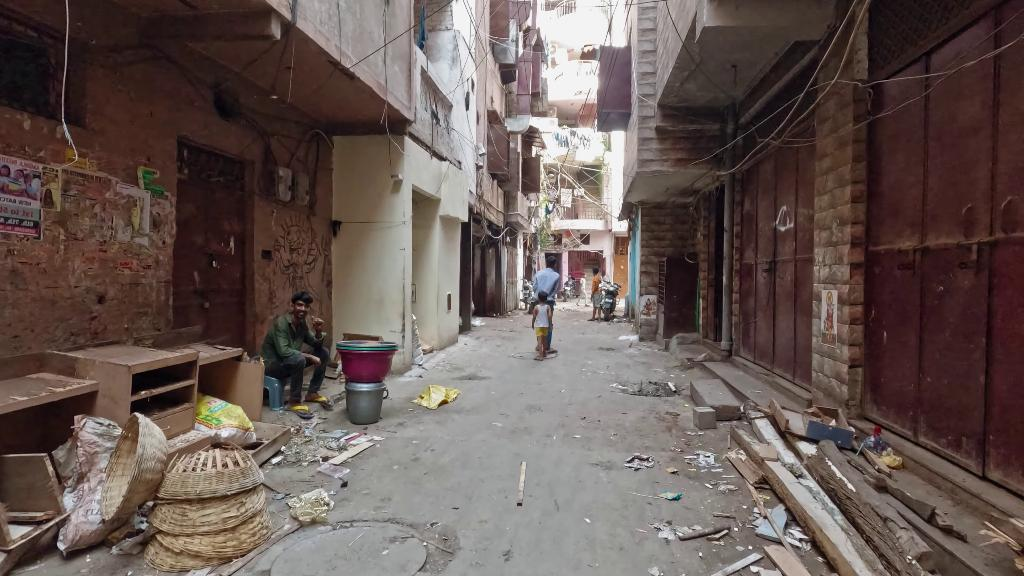garbage: (195, 397, 257, 442), (313, 432, 377, 468), (408, 380, 464, 419), (619, 439, 667, 481), (297, 485, 336, 527), (677, 519, 731, 548), (510, 459, 531, 507), (648, 483, 683, 508)
